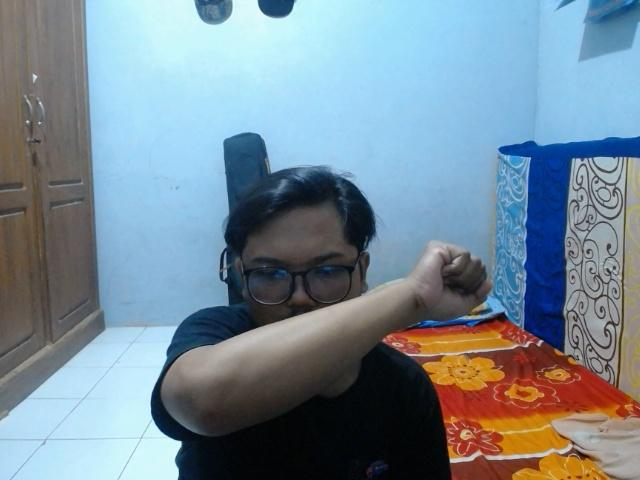Grab: (406, 236, 497, 324)
